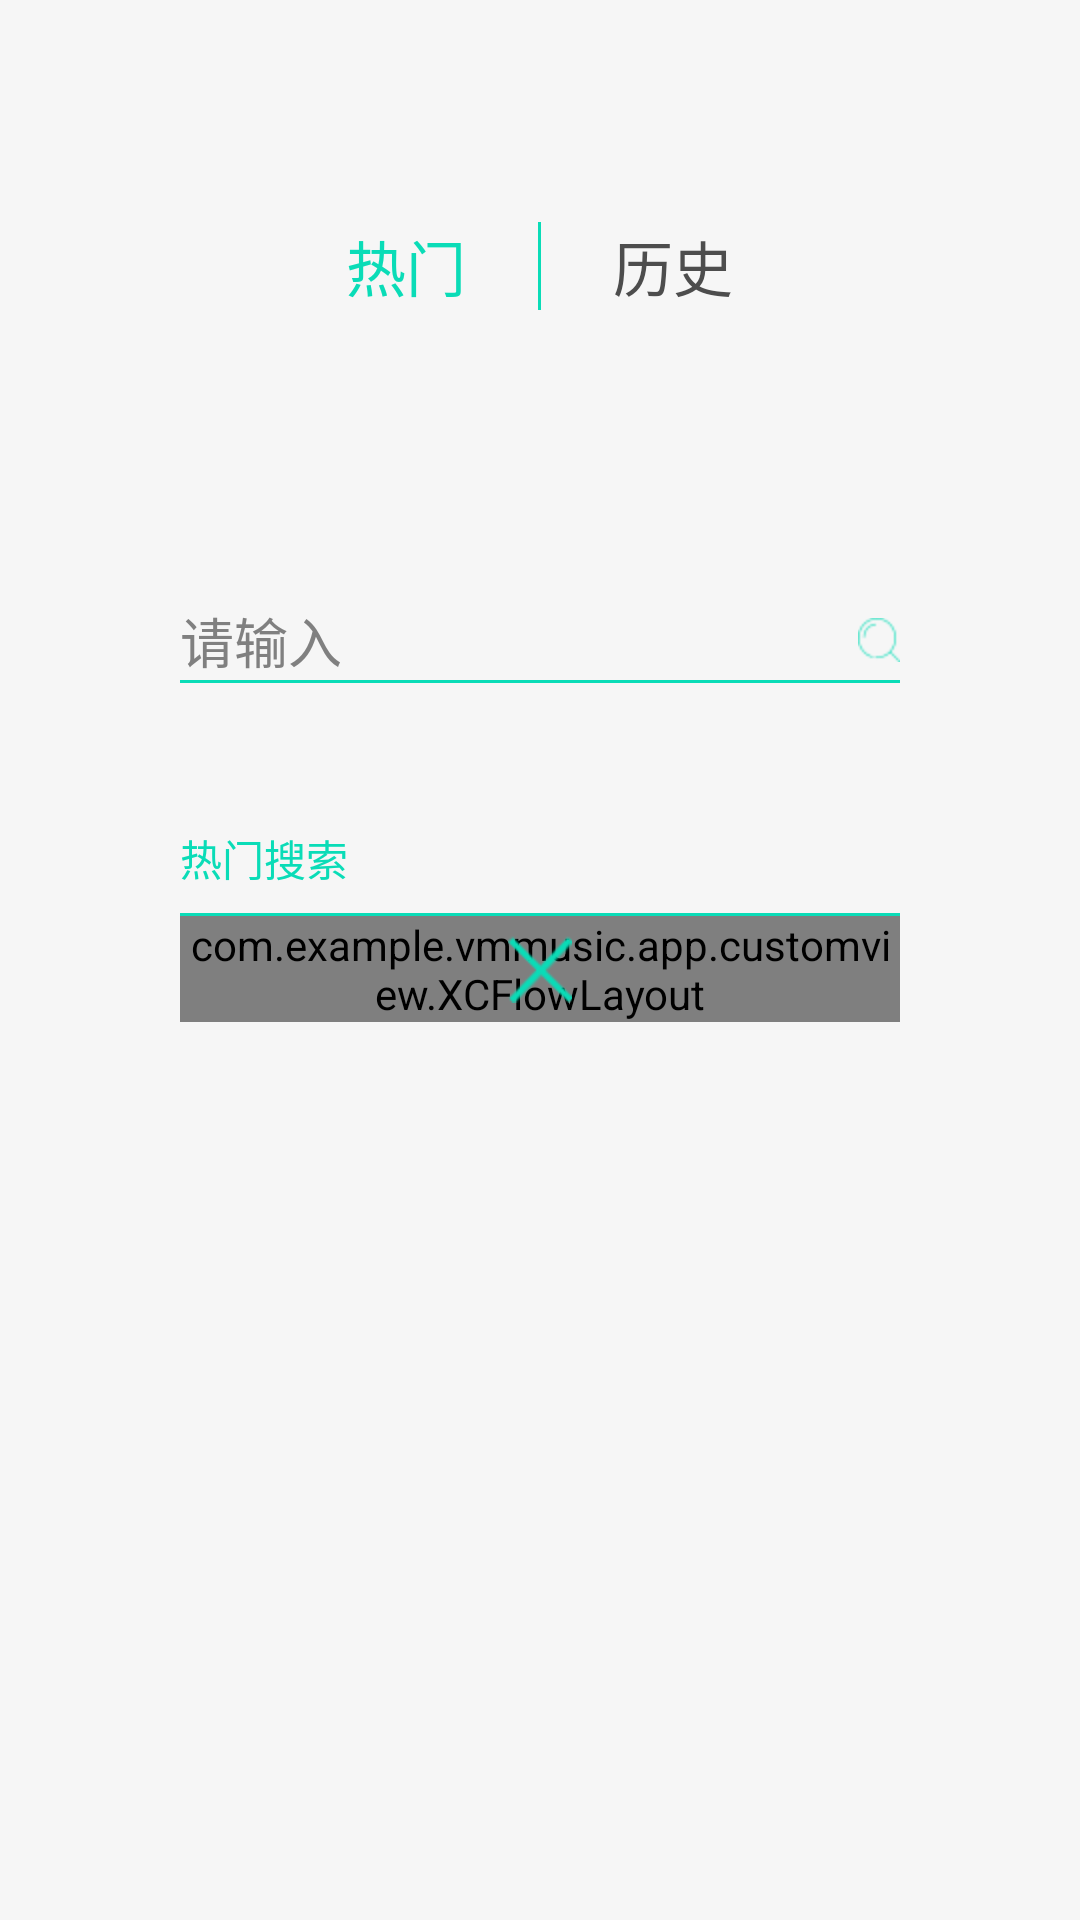

Screen size 1080x1920. Icon name, then its center in pixels as (x,y):
cancel: (540,970)
